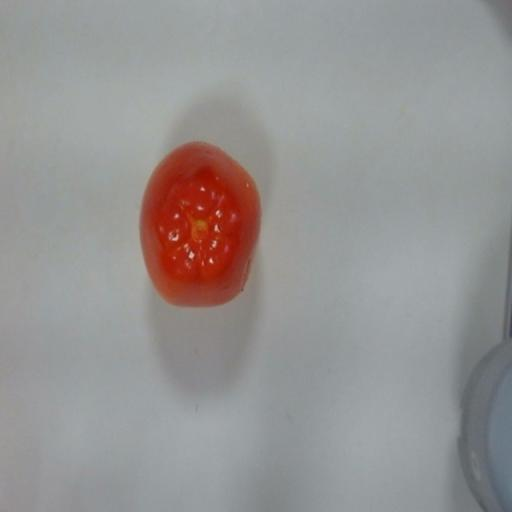Ripe: (138, 129, 282, 330)
